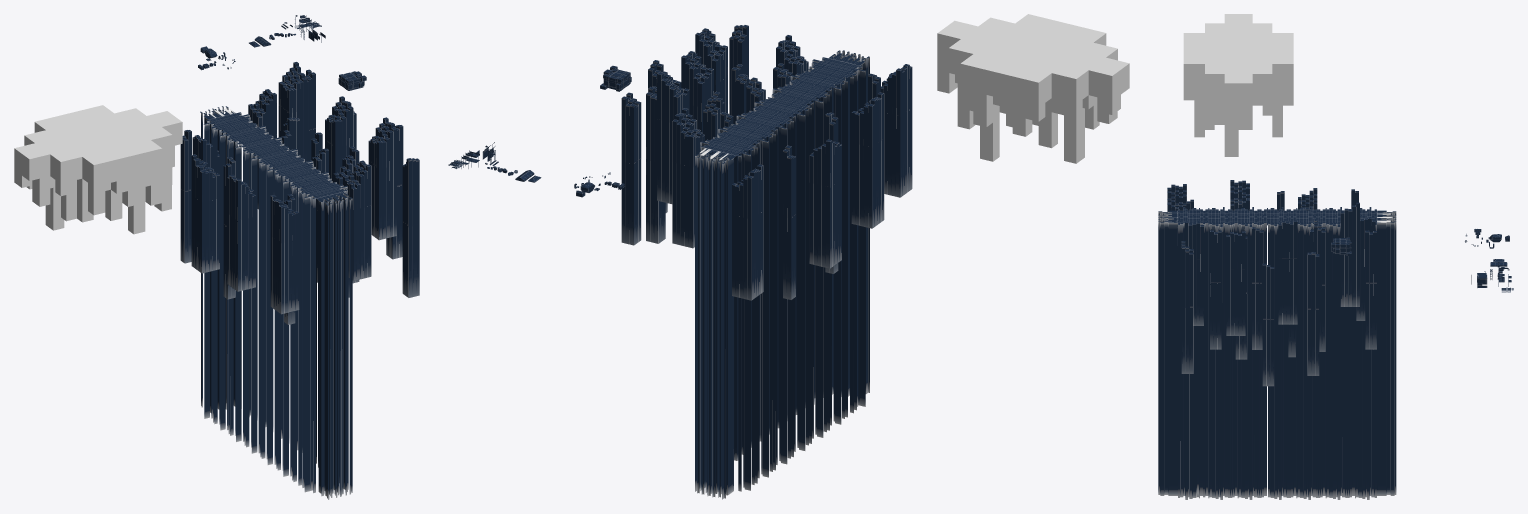
Rendered from VoidLandsTestPieces.fbx.
3 views of the same model, side by side, from view 1: azimuth 30°, elevation 25°; view 2: azimuth 150°, elevation 25°; view 3: azimuth 270°, elevation 25° (orthographic). The views are drawn at different scales.
Parts seen in each view (by area): view 1: VoidLeak.001, Cube.023, Cube.013, Cube.015, Cube.014, Cube.010, Cube.012, Cube.018, Cube.001, Cube.017, Cube.007, Cube (+4 smaller); view 2: VoidLeak.001, Cube.023, Cube.014, Cube.015, Cube.016, Cube.013, Cube, Cube.020, Cube.001, Cube.002, Cube.007, Cube.017 (+4 smaller); view 3: VoidLeak.001, Cube.023, Cube.017, Cube.010, Cube.001, Cube.018, Cube.002, Cube.019, Cube.004, Cube.020, Cube.003, Cube.012 (+5 smaller).
Boxes of the visible parts, bbox=[...] form: VoidLeak.001: bbox=[200, 106, 352, 499]; Cube.023: bbox=[14, 105, 182, 234]; Cube.013: bbox=[270, 195, 299, 314]; Cube.015: bbox=[191, 154, 219, 273]; Cube.014: bbox=[227, 175, 255, 291]; Cube.010: bbox=[368, 117, 396, 240]; Cube.012: bbox=[343, 160, 371, 280]; Cube.018: bbox=[402, 158, 419, 297]; Cube.001: bbox=[278, 61, 307, 161]; Cube.017: bbox=[325, 96, 353, 182]; Cube.007: bbox=[180, 130, 191, 263]; Cube: bbox=[248, 89, 276, 209]; VoidLeak.001: bbox=[695, 50, 869, 499]; Cube.023: bbox=[937, 14, 1129, 163]; Cube.014: bbox=[851, 92, 884, 228]; Cube.015: bbox=[809, 139, 841, 268]; Cube.016: bbox=[732, 164, 763, 300]; Cube.013: bbox=[880, 64, 912, 197]; Cube: bbox=[672, 108, 704, 248]; Cube.020: bbox=[621, 92, 641, 245]; Cube.001: bbox=[657, 72, 689, 203]; Cube.002: bbox=[646, 86, 665, 243]; Cube.007: bbox=[783, 145, 795, 299]; Cube.017: bbox=[681, 51, 713, 133]; VoidLeak.001: bbox=[1158, 207, 1396, 499]; Cube.023: bbox=[1183, 14, 1293, 156]; Cube.017: bbox=[1278, 220, 1297, 324]; Cube.010: bbox=[1226, 231, 1245, 335]; Cube.001: bbox=[1340, 202, 1359, 306]; Cube.018: bbox=[1181, 241, 1193, 373]; Cube.002: bbox=[1307, 252, 1319, 375]; Cube.019: bbox=[1262, 263, 1274, 386]; Cube.004: bbox=[1210, 230, 1221, 349]; Cube.020: bbox=[1365, 230, 1376, 349]; Cube.003: bbox=[1252, 227, 1263, 349]; Cube.012: bbox=[1184, 221, 1203, 325].
Bounding box in the file's own units: 363 × 484 × 396.
